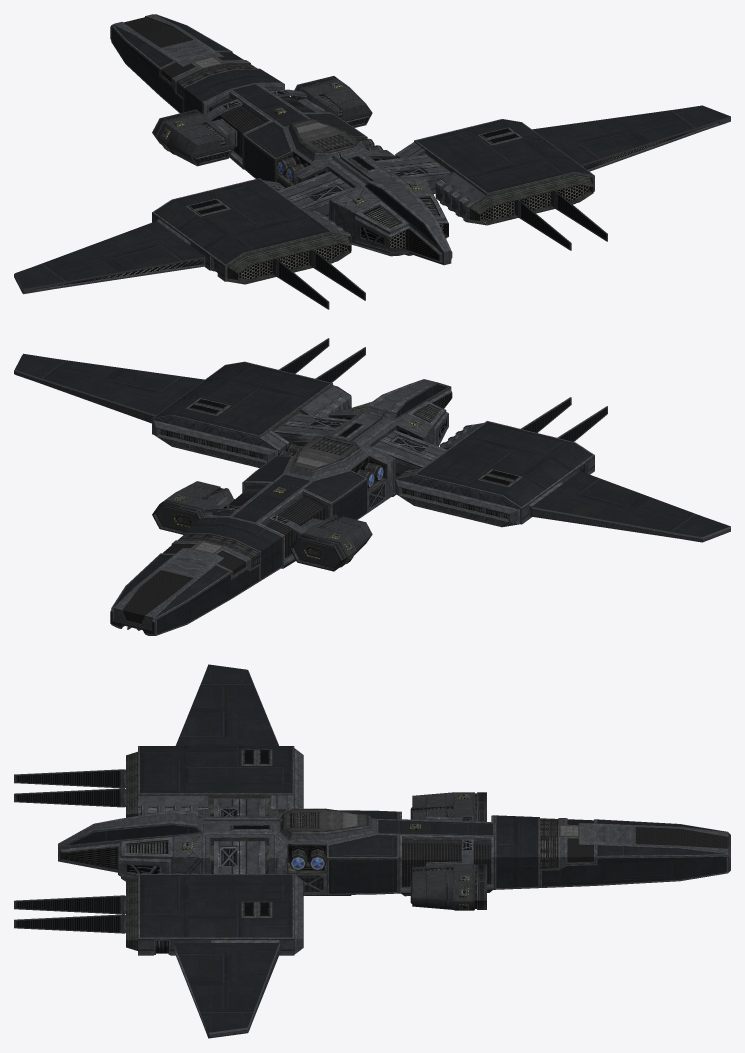
The model's file is FD-42 Longsword.fbx.
3 views of the same model, one above another, from view 1: azimuth 30°, elevation 25°; view 2: azimuth 150°, elevation 25°; view 3: azimuth 270°, elevation 25° (orthographic). The views are drawn at different scales.
Visible parts, largest first — view 1: Hull1, Hull2, Equip, Hull4, Engine, Grill2, Hull3, Radiator, Grid, Equip2; view 2: Hull1, Hull2, Equip, Hull3, Hull4, Grid, Radiator, Grill, Mount; view 3: Hull1, Hull2, Equip, Radiator, Hull4, Hull3, Grid, Engine.
Part boxes in pixels (x1,y1,x2,y2): Hull1: (15, 15, 730, 288); Hull2: (14, 14, 730, 309); Equip: (36, 16, 718, 289); Hull4: (152, 76, 372, 166); Engine: (227, 175, 593, 282); Grill2: (238, 185, 589, 279); Hull3: (118, 15, 432, 240); Radiator: (279, 194, 605, 307); Grid: (123, 17, 243, 82); Equip2: (226, 174, 593, 284); Hull1: (15, 354, 730, 634); Hull2: (14, 338, 730, 635); Equip: (122, 392, 585, 629); Hull3: (117, 407, 521, 626); Hull4: (155, 481, 372, 570); Grid: (123, 544, 245, 623); Radiator: (281, 340, 606, 441); Grill: (159, 429, 508, 519); Mount: (172, 407, 421, 564); Hull1: (68, 664, 726, 1032); Hull2: (14, 670, 730, 1038); Equip: (62, 749, 728, 959); Radiator: (16, 771, 120, 932); Hull4: (412, 792, 486, 910); Hull3: (175, 809, 728, 873); Grid: (567, 819, 727, 862); Engine: (126, 751, 137, 950).
Bounding box in the file's own units: 977 × 82.34 × 802.
15 materials, 15 textured.
